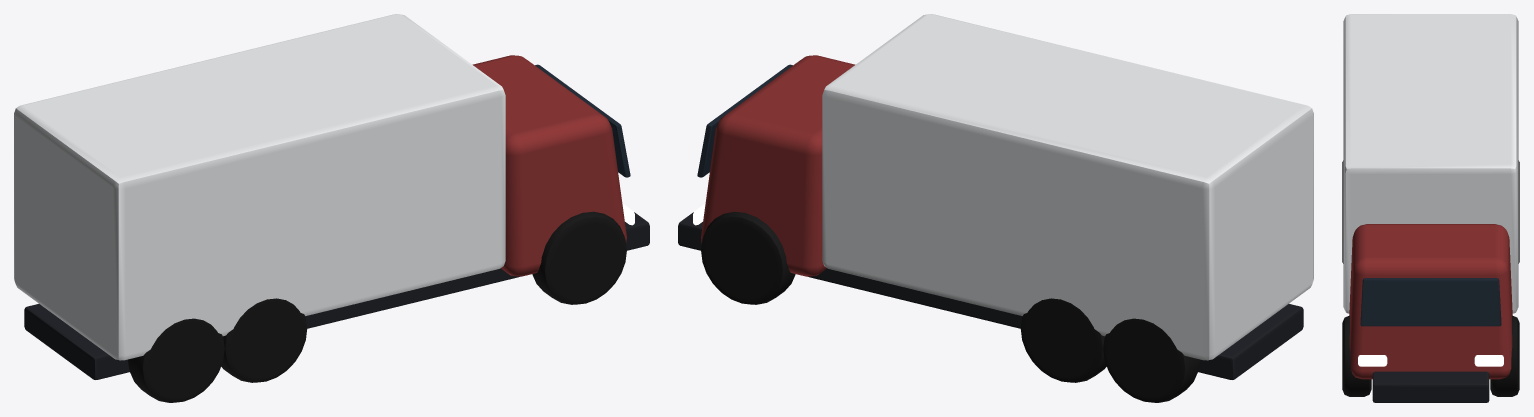
File: truck.glb
The picture shows the model from 3 angles, left to right: view 1: azimuth 30°, elevation 25°; view 2: azimuth 150°, elevation 25°; view 3: azimuth 270°, elevation 25°; orthographic projection. The views are drawn at different scales.
Parts seen in each view (by area): view 1: part-livery-white, part-paint, part-trim, wheel-+19--1-tyre, wheel--20--1-tyre, wheel--12--1-tyre, part-glass; view 2: part-livery-white, part-paint, part-trim, wheel-+19-1-tyre, wheel--20-1-tyre, wheel--12-1-tyre, part-glass; view 3: part-livery-white, part-paint, part-glass, part-trim, wheel-+19-1-tyre, wheel-+19--1-tyre, headlight-1, headlight--1.
Part boxes in pixels (x1,y1,x2,y2): part-livery-white: [14, 14, 505, 360]; part-paint: [472, 55, 626, 276]; part-trim: [24, 212, 649, 379]; wheel-+19--1-tyre: [532, 211, 626, 304]; wheel--20--1-tyre: [128, 318, 224, 402]; wheel--12--1-tyre: [221, 298, 307, 382]; part-glass: [535, 64, 630, 177]; part-livery-white: [822, 14, 1313, 360]; part-paint: [701, 55, 855, 276]; part-trim: [678, 212, 1303, 379]; wheel-+19-1-tyre: [701, 211, 795, 304]; wheel--20-1-tyre: [1103, 318, 1199, 402]; wheel--12-1-tyre: [1020, 298, 1106, 382]; part-glass: [697, 64, 792, 177]; part-livery-white: [1343, 14, 1518, 313]; part-paint: [1349, 224, 1512, 379]; part-glass: [1360, 278, 1501, 326]; part-trim: [1372, 371, 1489, 402]; wheel-+19-1-tyre: [1490, 315, 1519, 396]; wheel-+19--1-tyre: [1342, 315, 1371, 396]; headlight-1: [1474, 355, 1503, 366]; headlight--1: [1358, 355, 1387, 366].
Bounding box in the file's own units: 54 × 22.1 × 18.2.
